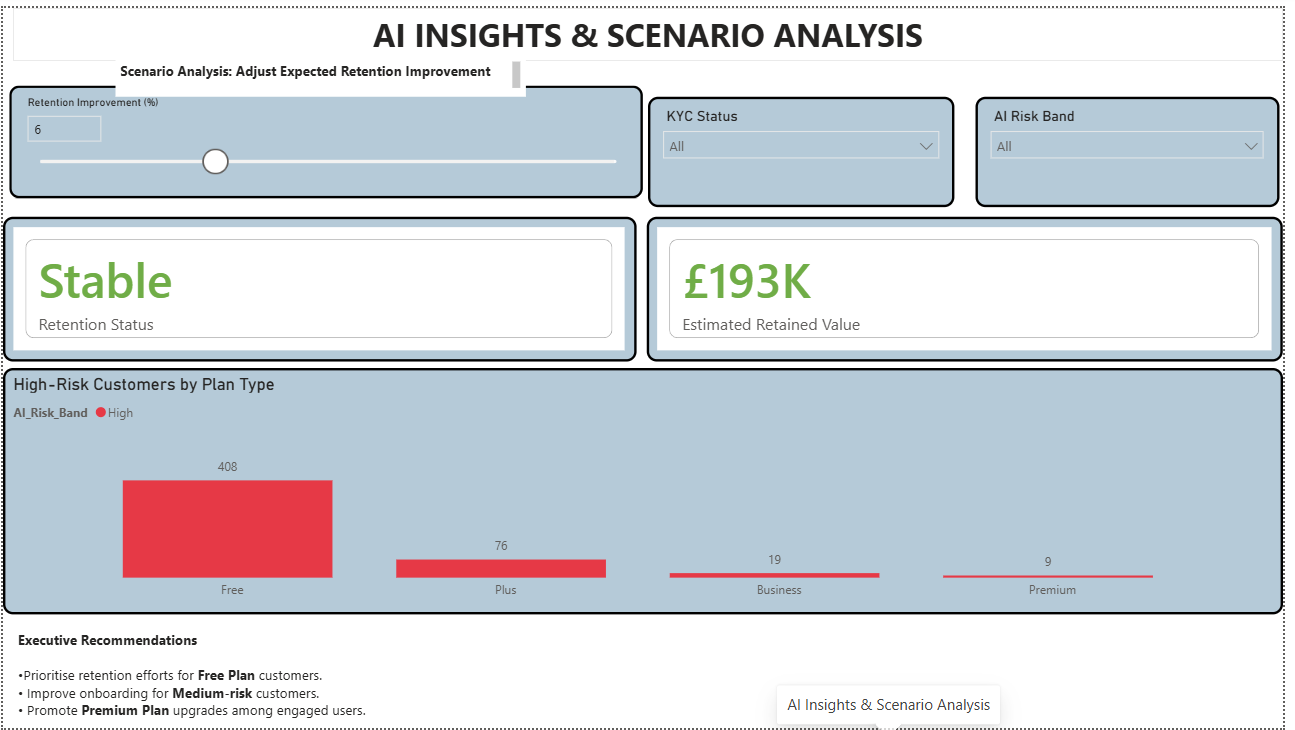

What the dashboard file says about the page in this screenshot:
{"tool":"powerbi","page":{"name":"AI Insights & Scenario Analysis","canvas":[1280,720],"ordinal":3},"visuals":[{"type":"textbox","box":[10,0,1270,53.8],"z":0},{"type":"cardVisual","fields":{"Data":["Fact_Customers.Retention KPI Status"]},"box":[0,208.8,633.8,145],"z":1000},{"type":"slicer","title":"Adjust expected retention improvement","fields":{"Values":["Retention Improvement (%).Retention Improvement (%)"]},"box":[6.2,77.5,633.8,112.5],"z":2000},{"type":"slicer","fields":{"Values":["Fact_Customers.KYC_Status"]},"box":[645,88.8,306.2,110],"z":3000},{"type":"slicer","fields":{"Values":["Fact_Customers.AI_Risk_Band"]},"box":[972.5,88.8,303.8,110],"z":4000},{"type":"cardVisual","fields":{"Data":["Fact_Customers.Retained Asset Value"]},"box":[643.8,208.8,636.2,145],"z":5000},{"type":"clusteredColumnChart","title":"High-Risk Customers by Plan Type","fields":{"Category":["Fact_Customers.Plan_Type"],"Y":["CountNonNull(Fact_Customers.Customer_ID)"],"Series":["Fact_Customers.AI_Risk_Band"]},"box":[0,360,1280,246.2],"z":6000},{"type":"textbox","box":[9.8,617.5,1266.9,102.7],"z":7000},{"type":"textbox","box":[112.5,48.8,410,40],"z":8000}]}

Visuals, with their boxes in screenshot pixels (x1, y1, x2, y2), scaled from the page's 1280x720 canvas onto the 1295x730 screenshot:
textbox: l=10, t=0, r=1294, b=55
cardVisual - Fact_Customers.Retention KPI Status: l=0, t=212, r=641, b=359
"Adjust expected retention improvement" slicer: l=6, t=79, r=648, b=193
slicer - Fact_Customers.KYC_Status: l=653, t=90, r=962, b=202
slicer - Fact_Customers.AI_Risk_Band: l=984, t=90, r=1291, b=202
cardVisual - Fact_Customers.Retained Asset Value: l=651, t=212, r=1294, b=359
"High-Risk Customers by Plan Type" clusteredColumnChart: l=0, t=365, r=1294, b=615
textbox: l=10, t=626, r=1292, b=729
textbox: l=114, t=49, r=529, b=90
